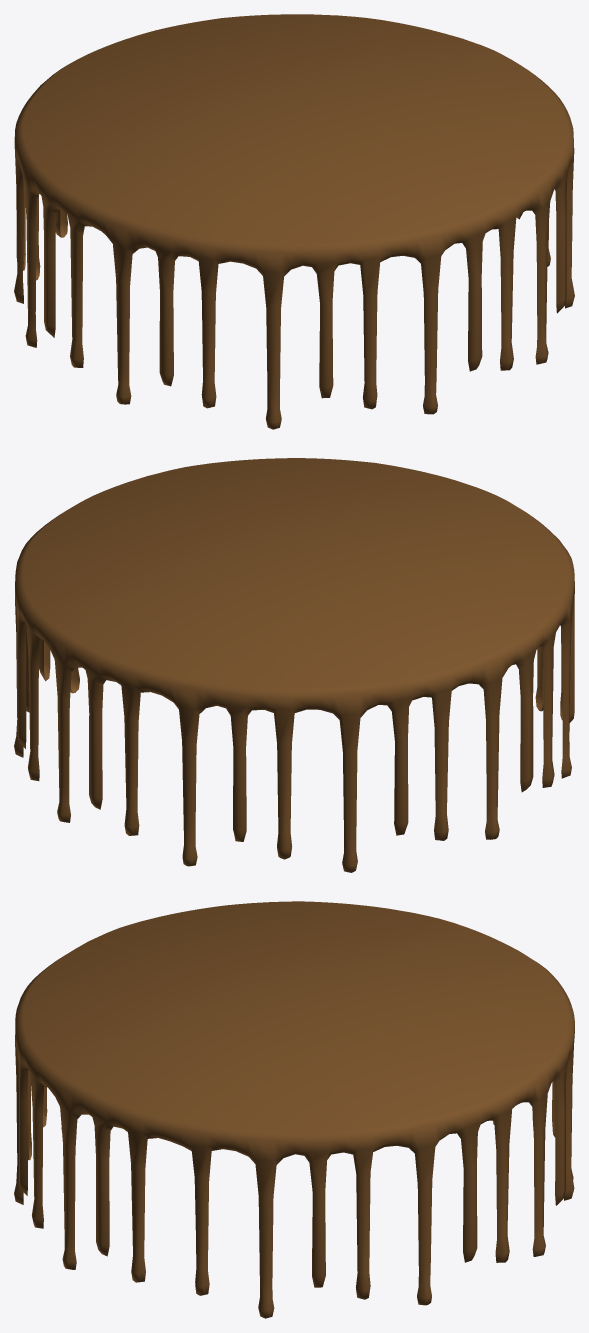
File: Cake_Med_itemsTop_icing-LongDrops.FBX
3 views of the same model, one above another, from view 1: azimuth 30°, elevation 25°; view 2: azimuth 150°, elevation 25°; view 3: azimuth 270°, elevation 25° (orthographic).
Visible parts, largest first — view 1: Cake_Med_itemsTop_icing-LongDrops; view 2: Cake_Med_itemsTop_icing-LongDrops; view 3: Cake_Med_itemsTop_icing-LongDrops.
Part boxes in pixels (x1,y1,x2,y2): Cake_Med_itemsTop_icing-LongDrops: (14,14,574,429); Cake_Med_itemsTop_icing-LongDrops: (14,458,574,872); Cake_Med_itemsTop_icing-LongDrops: (14,901,574,1318).
Bounding box in the file's own units: 7598 × 2803 × 7591.
